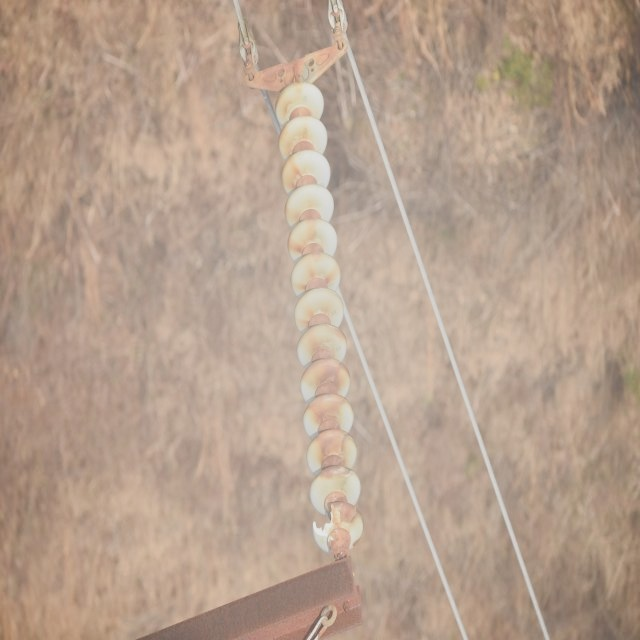broken: (312, 506, 332, 539)
insulator: (274, 82, 362, 557)
